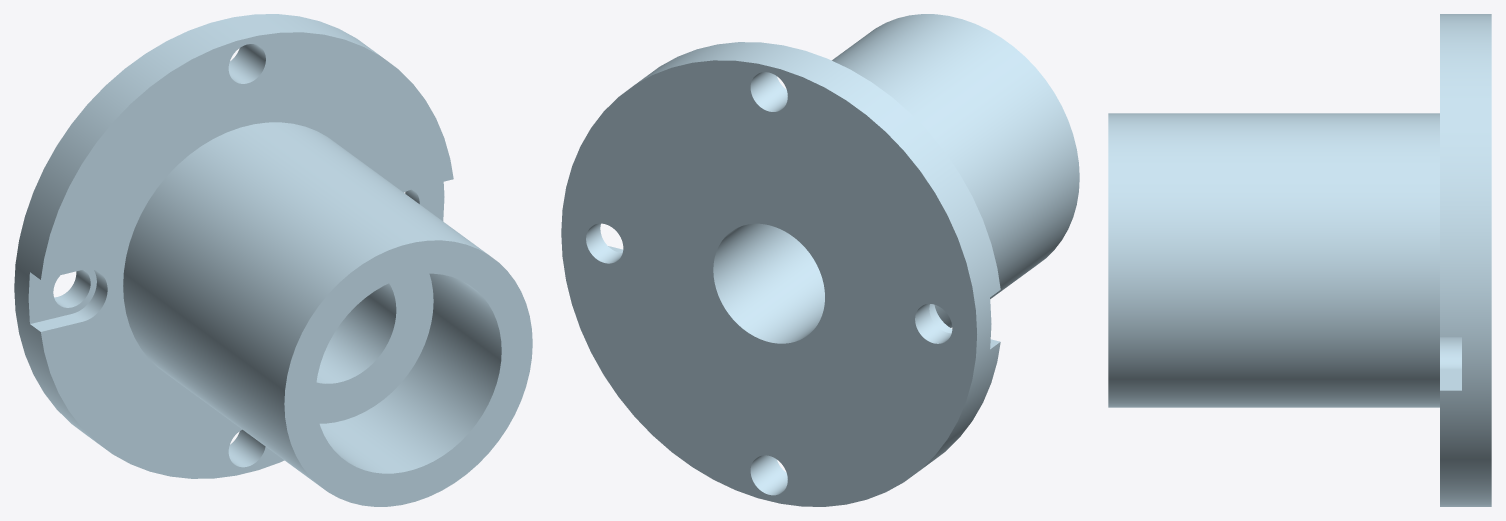
The model's file is Part-Studio-1_4_.gltf.
3 views of the same model, side by side, from view 1: azimuth 30°, elevation 25°; view 2: azimuth 150°, elevation 25°; view 3: azimuth 270°, elevation 25° (orthographic). The views are drawn at different scales.
Visible parts, largest first — view 1: Part 1; view 2: Part 1; view 3: Part 1.
Boxes of the visible parts, x1,y1,x2,y2 form: Part 1: [14, 14, 532, 506]; Part 1: [561, 14, 1079, 506]; Part 1: [1108, 14, 1491, 506].
Size of the model in its own units: 0.067 by 0.0669 by 0.052.
